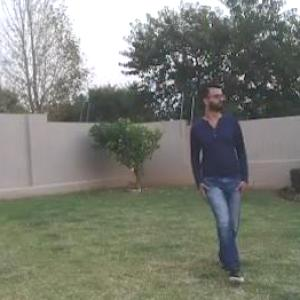follow: (187, 78, 255, 277)
